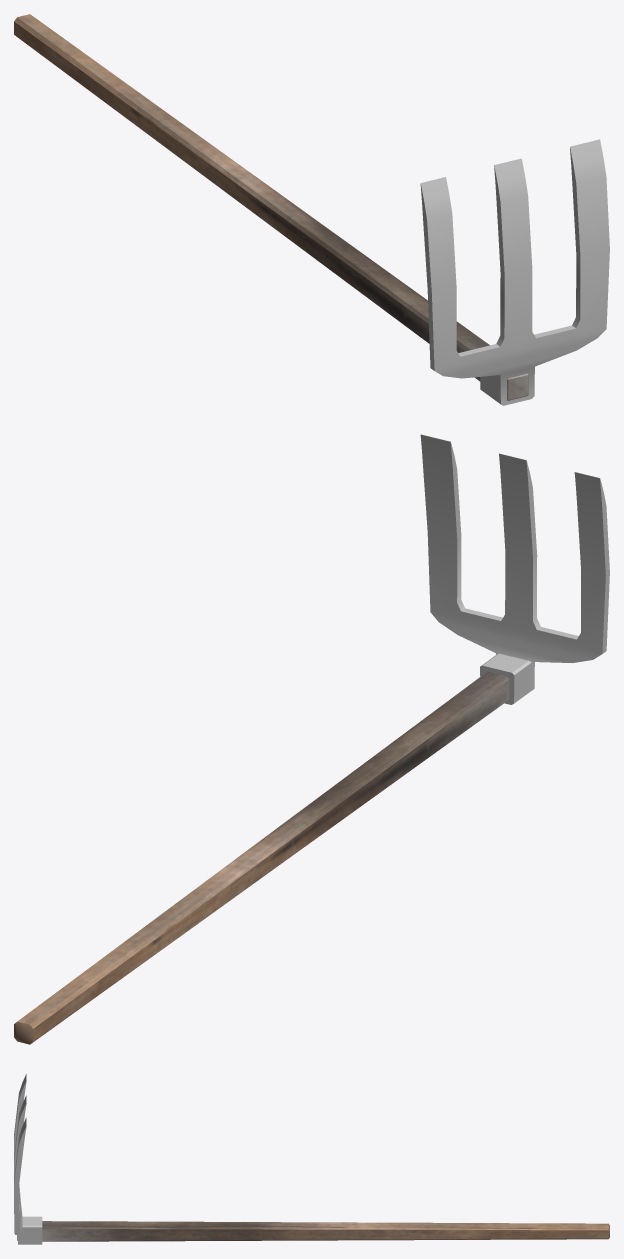
The model's file is jov_farmtools03.fbx.
3 views of the same model, one above another, from view 1: azimuth 30°, elevation 25°; view 2: azimuth 150°, elevation 25°; view 3: azimuth 270°, elevation 25° (orthographic). The views are drawn at different scales.
Visible parts, largest first — view 1: jov_farmtools03; view 2: jov_farmtools03; view 3: jov_farmtools03.
Boxes of the visible parts, left/top/right/bottom form: jov_farmtools03: left=14, top=14, right=609, bottom=405; jov_farmtools03: left=14, top=434, right=609, bottom=1044; jov_farmtools03: left=14, top=1073, right=609, bottom=1244.
Size of the model in its own units: 30.31 by 38.09 by 146.
